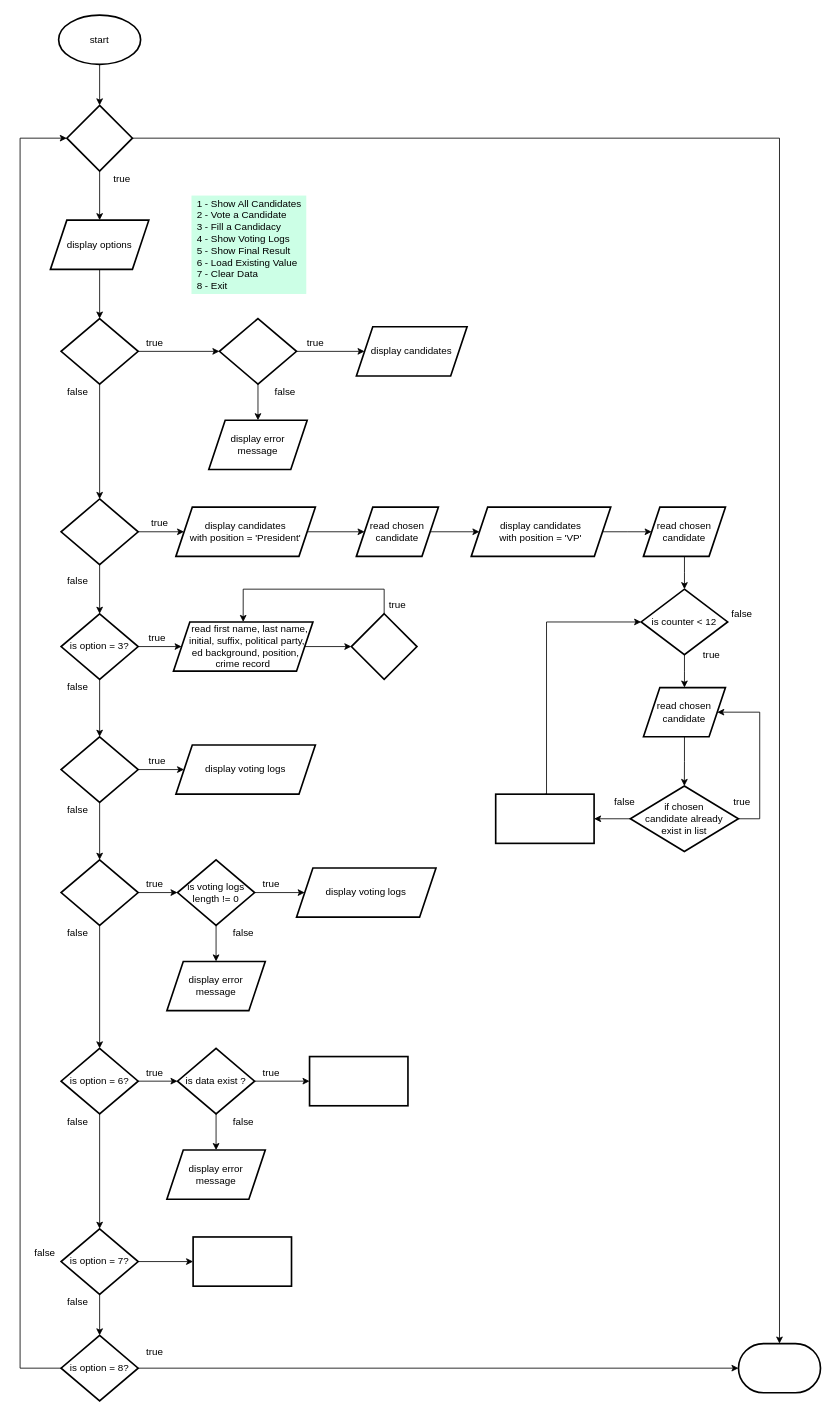
This 836x1415 diagram has some shape labels left out. Each missing label, with the centre of its shape:
clear data: (x=242, y=1261)
counter--: (x=544, y=818)
end: (x=779, y=1367)
if already exist: (x=383, y=646)
is candidate length != 0: (x=257, y=351)
is option = 1?: (x=99, y=351)
is option = 2?: (x=99, y=531)
is option = 4?: (x=99, y=769)
is option = 5?: (x=99, y=892)
is true?: (x=99, y=137)
load data: (x=358, y=1080)
